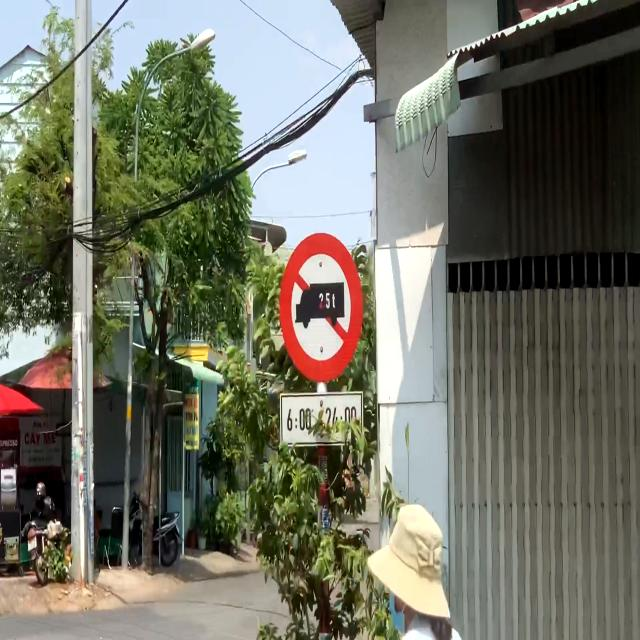P.106b: (278, 231, 364, 385)
